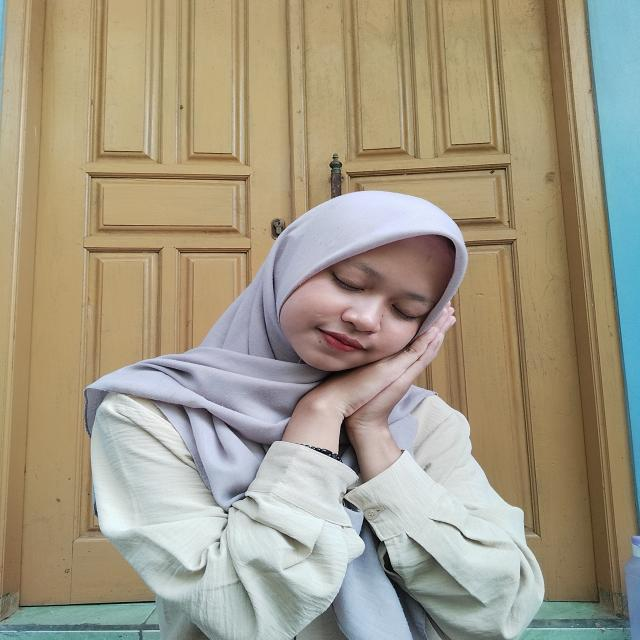tidur: (258, 303, 465, 479)
